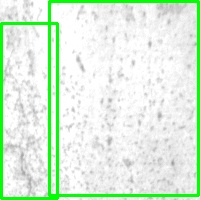pitted_surface: (49, 1, 198, 195), (2, 23, 57, 198)
